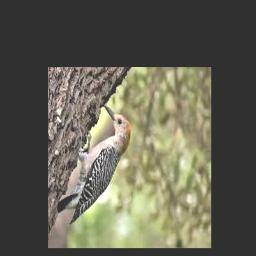Woodpecker: (57, 104, 131, 225)
